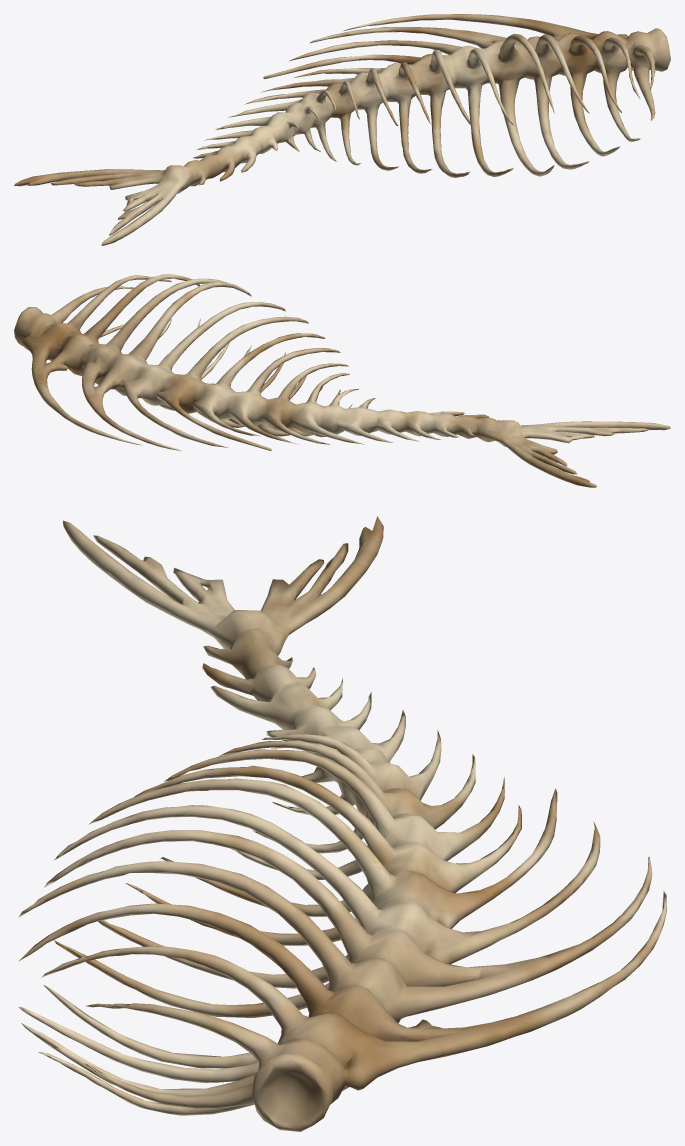
The model's file is bone_spine_xl.glb.
The picture shows the model from 3 angles, top to bottom: view 1: azimuth 30°, elevation 25°; view 2: azimuth 150°, elevation 25°; view 3: azimuth 270°, elevation 25°; orthographic projection. The views are drawn at different scales.
Visible parts, largest first — view 1: bone_spine_xl; view 2: bone_spine_xl; view 3: bone_spine_xl.
Part boxes in pixels (x1,y1,x2,y2): bone_spine_xl: (14,14,670,245); bone_spine_xl: (14,274,670,487); bone_spine_xl: (18,516,666,1131).
Size of the model in its own units: 0.3 by 0.0572 by 0.1416.
1 material, 1 textured.
